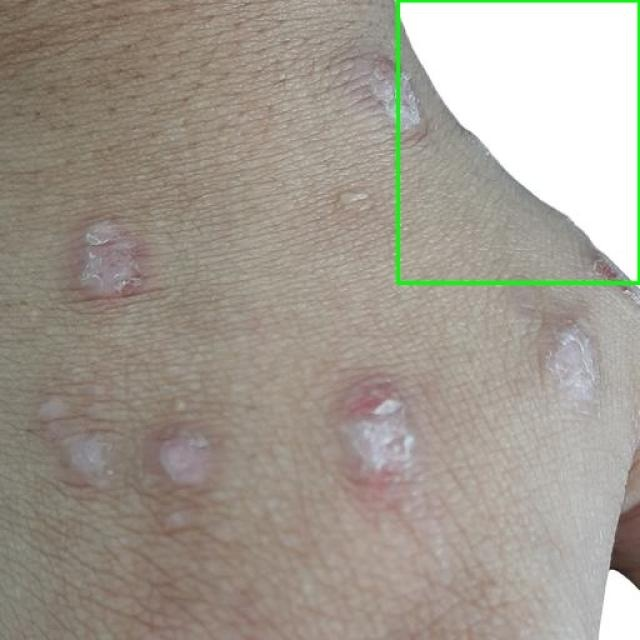Contact Dermatitis: (398, 0, 639, 282)
